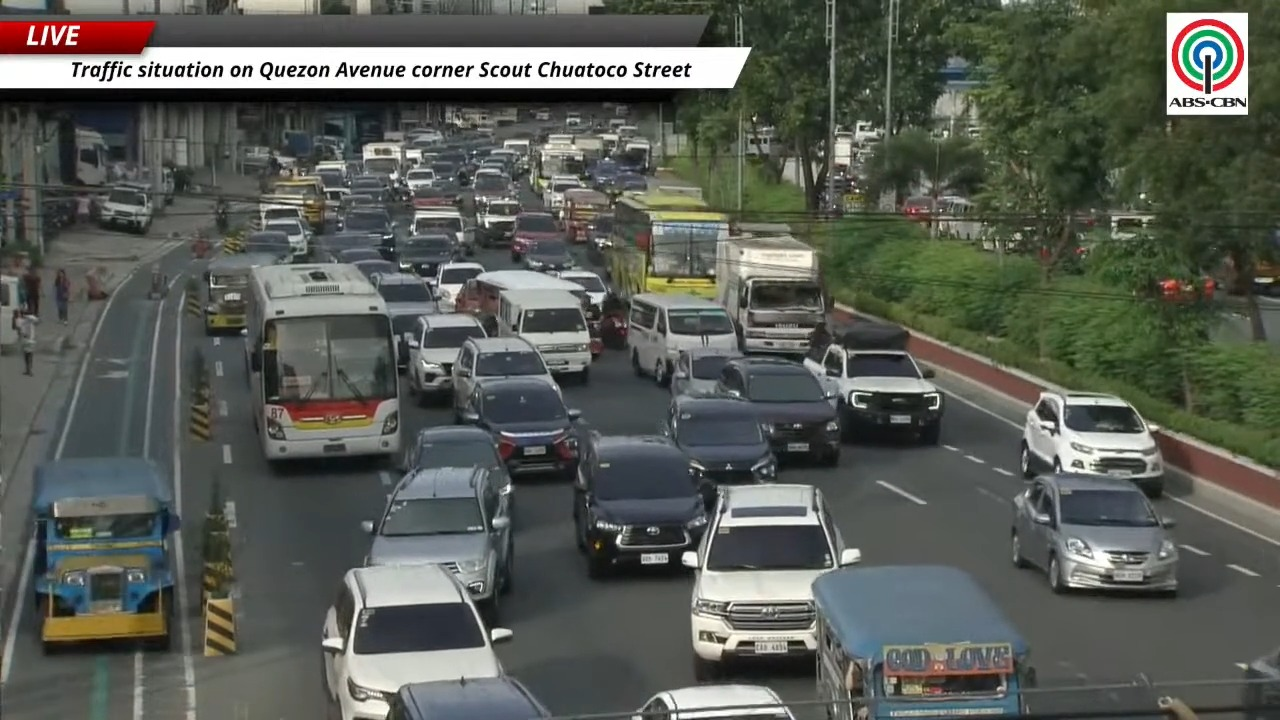bus: (245, 264, 400, 464), (607, 190, 730, 298), (271, 176, 326, 232)
car: (682, 484, 860, 681), (321, 565, 512, 719), (361, 466, 513, 622), (572, 433, 714, 578), (1010, 474, 1178, 595), (803, 322, 944, 444), (1019, 391, 1163, 496), (717, 357, 841, 465), (460, 378, 580, 478), (398, 425, 515, 522), (661, 395, 776, 484), (451, 336, 558, 422), (385, 677, 552, 719), (408, 313, 485, 404), (369, 272, 438, 372), (635, 684, 793, 719), (398, 425, 504, 472), (669, 347, 743, 396), (396, 234, 459, 282), (373, 272, 437, 314), (342, 208, 394, 259), (510, 212, 562, 262), (1242, 649, 1279, 719), (389, 306, 425, 374), (477, 197, 521, 246), (435, 261, 485, 302), (312, 232, 380, 261), (558, 269, 609, 307), (262, 218, 310, 258), (523, 239, 574, 271), (243, 230, 293, 262), (336, 190, 380, 226), (586, 213, 614, 262), (350, 257, 398, 279), (412, 186, 457, 209), (350, 176, 389, 202), (473, 171, 511, 195), (334, 247, 383, 263), (405, 167, 435, 189)
motorcycle: (599, 314, 627, 349), (215, 207, 229, 233)
truck: (717, 224, 826, 355), (833, 132, 856, 169)
